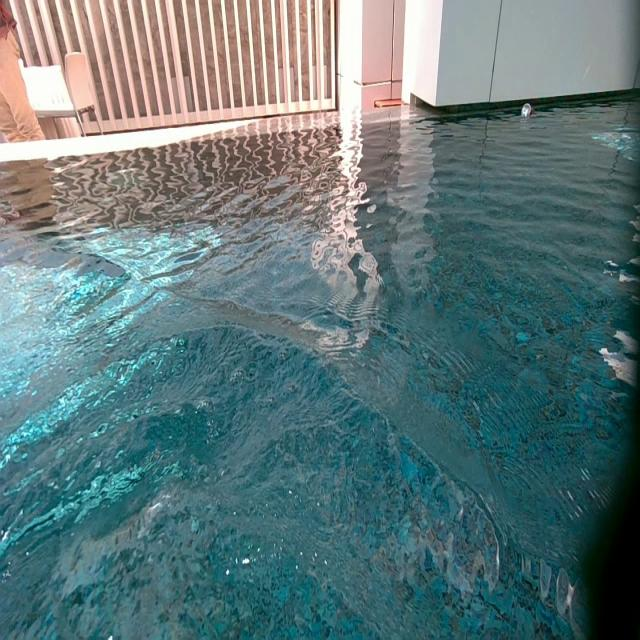Cans: (521, 102, 535, 117)
